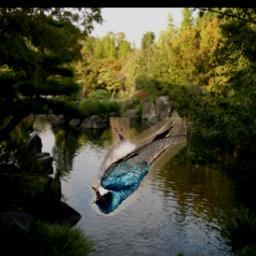Swallow: (88, 117, 187, 216)
